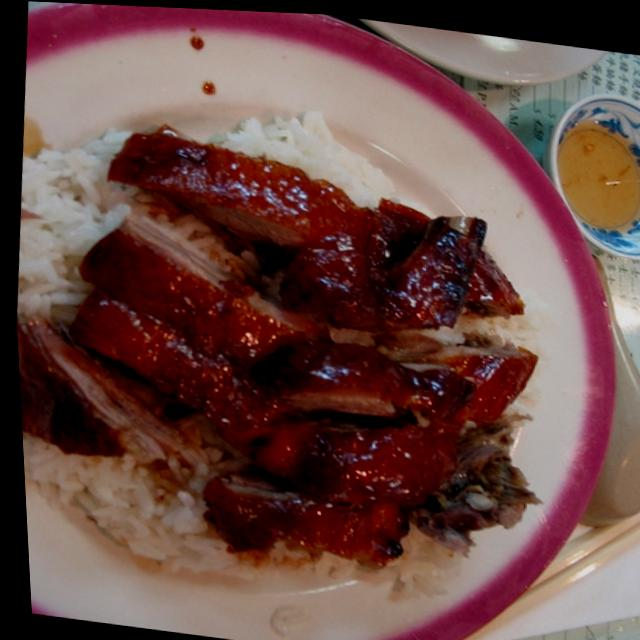米饭主食: (4, 104, 572, 603)
